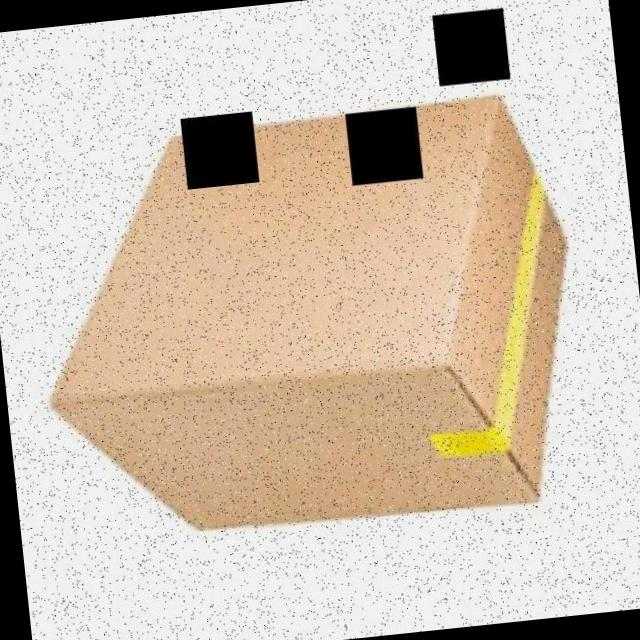box: (4, 78, 614, 581)
